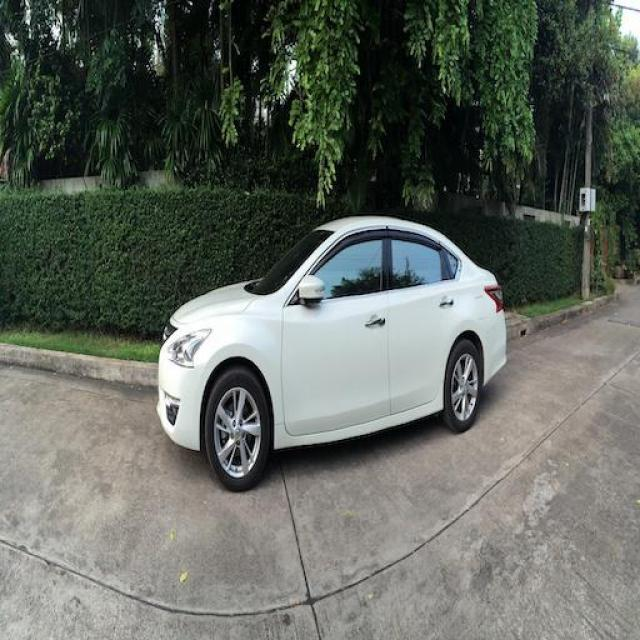back_left_door: (388, 225, 459, 414)
back_left_light: (482, 284, 502, 313)
front_left_light: (168, 224, 391, 435)
hood: (174, 279, 260, 325)
left_mirror: (299, 274, 326, 306)
wheel: (205, 340, 482, 493)
